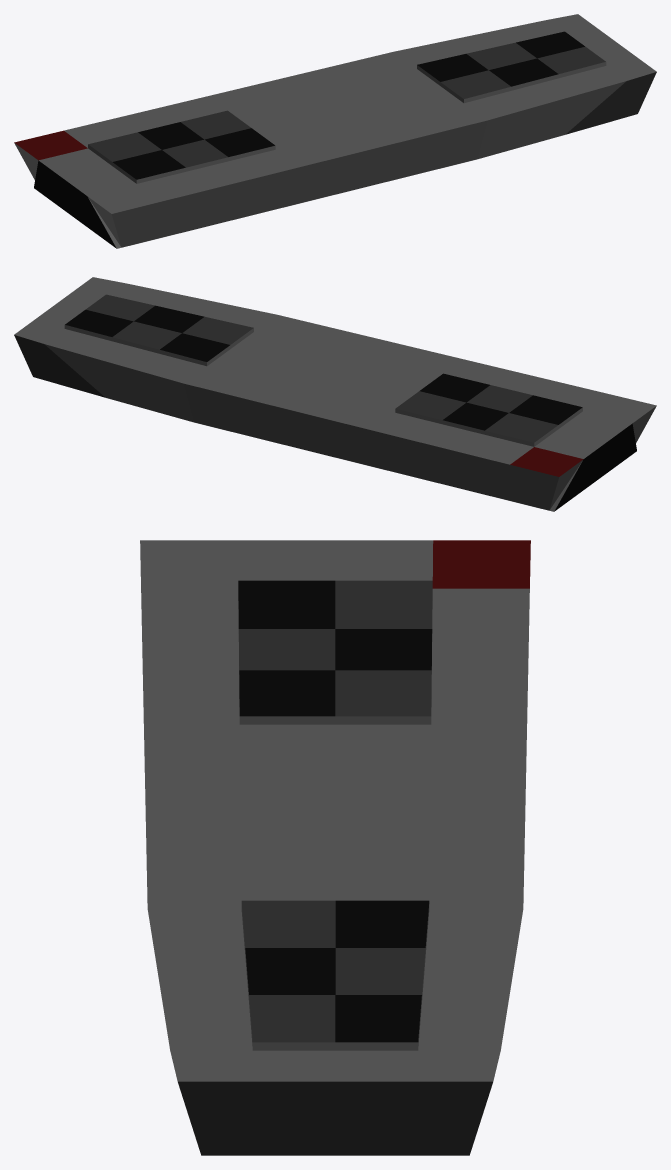
The model's file is remote.glb.
The picture shows the model from 3 angles, top to bottom: view 1: azimuth 30°, elevation 25°; view 2: azimuth 150°, elevation 25°; view 3: azimuth 270°, elevation 25°; orthographic projection. The views are drawn at different scales.
Visible parts, largest first — view 1: Cube.001; view 2: Cube.001; view 3: Cube.001.
Part boxes in pixels (left/top/right/bottom): Cube.001: left=14, top=14, right=656, bottom=248; Cube.001: left=14, top=277, right=656, bottom=511; Cube.001: left=140, top=540, right=530, bottom=1155.
Size of the model in its own units: 0.28 by 0.0229 by 0.0854.
Materials: 1 (1 with a texture image).
